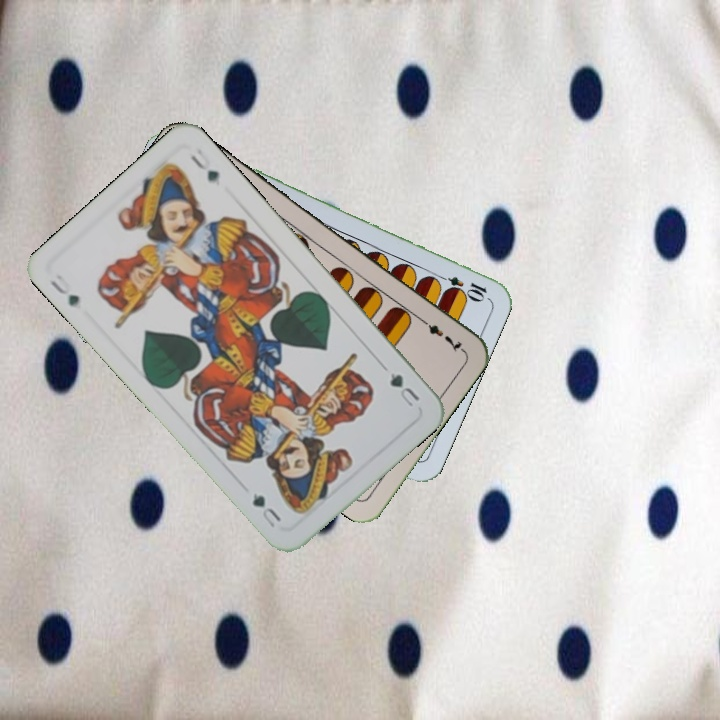E10: (432, 270, 490, 302)
E7: (415, 313, 466, 355)
GU: (385, 368, 423, 410), (46, 270, 82, 309)
